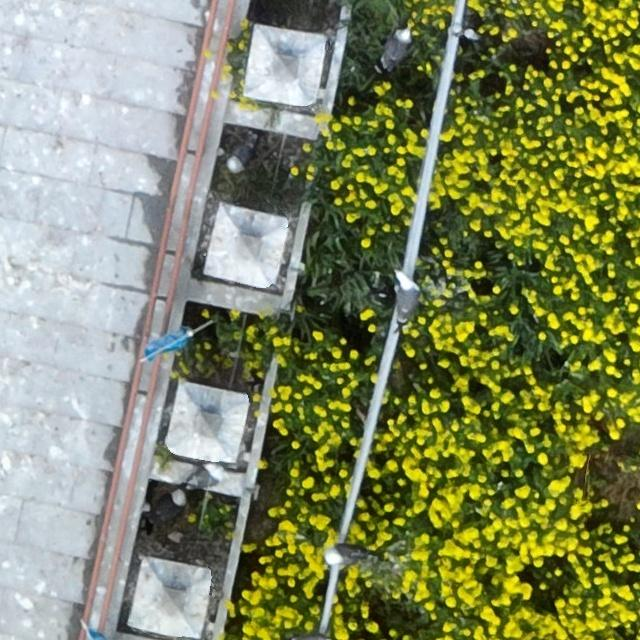umineko: (395, 272, 419, 324), (384, 30, 412, 68), (154, 490, 184, 520), (227, 139, 254, 171), (187, 466, 223, 489), (326, 546, 361, 563)
